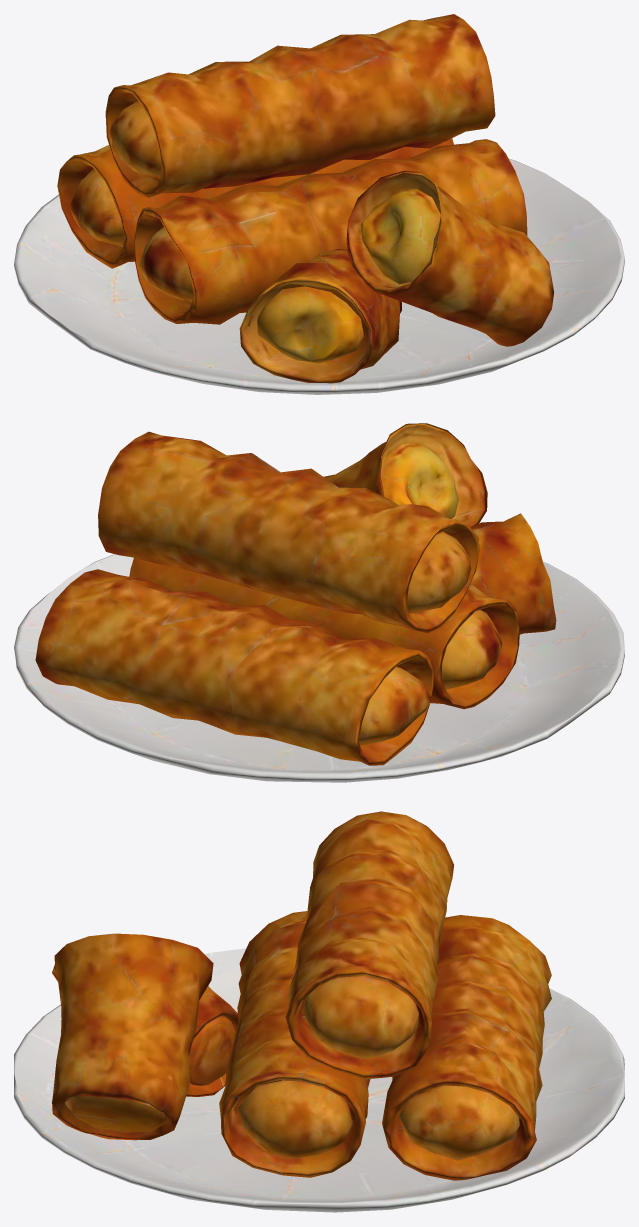
Rendered from turon.glb.
3 renders of one model, top to bottom at view 1: azimuth 30°, elevation 25°; view 2: azimuth 150°, elevation 25°; view 3: azimuth 270°, elevation 25°, orthographic.
Visible parts, largest first — view 1: geometry_0; view 2: geometry_0; view 3: geometry_0.
Boxes of the visible parts, x1=… form: geometry_0: x1=14, y1=14, x2=624, y2=394; geometry_0: x1=14, y1=423, x2=624, y2=782; geometry_0: x1=14, y1=811, x2=624, y2=1212.
Size of the model in its own units: 1 by 0.4273 by 1.
1 material, 1 textured.
